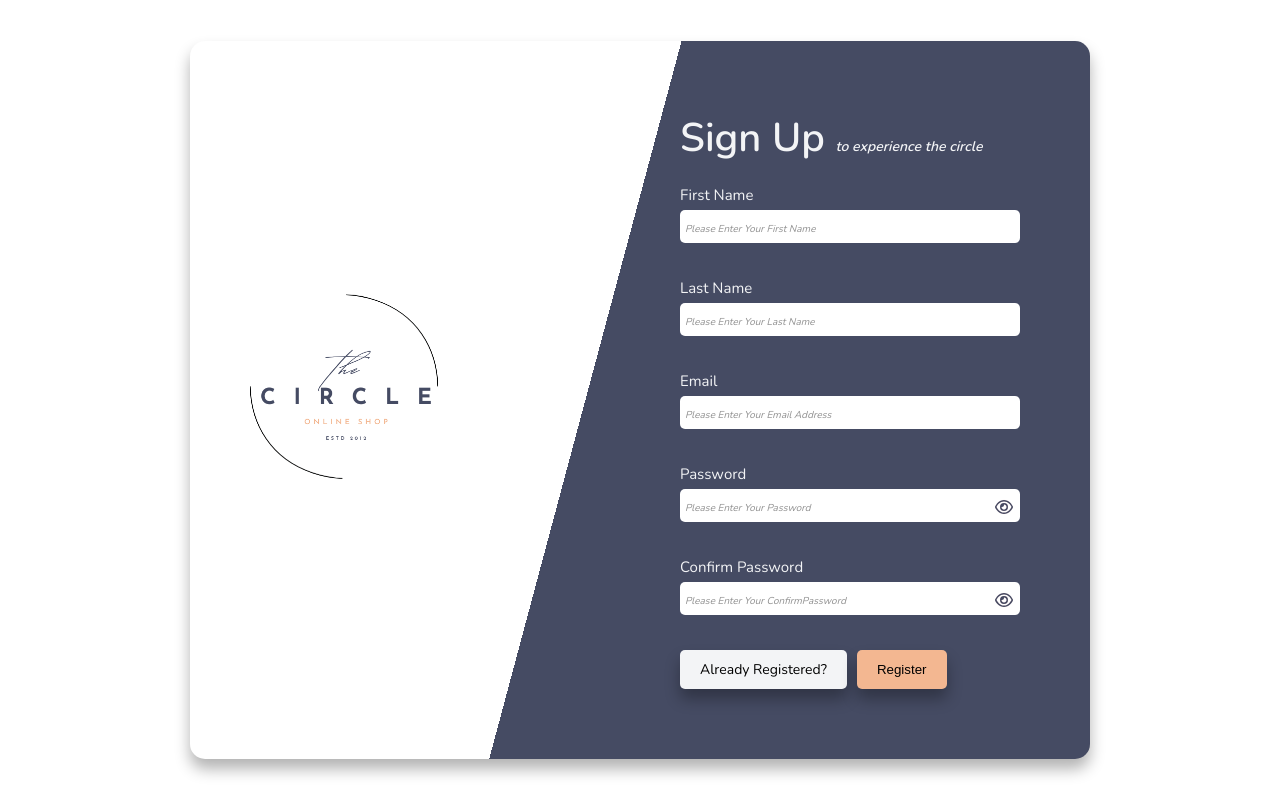
it: Sign Up Tests › when user click for Login page button
Click the link "Already Registered?" at (763, 670), box [680,650,847,689]
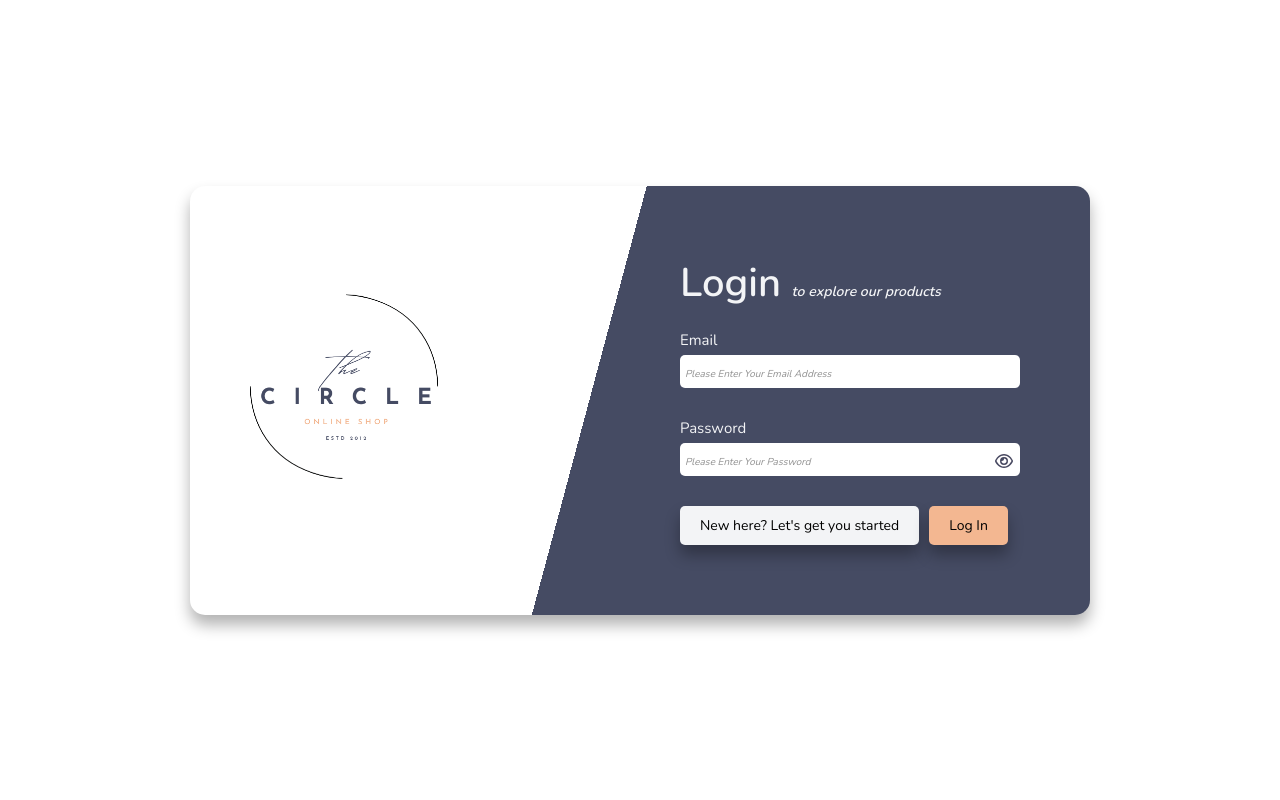
Check: the heading "Login to explore our products" is shown, box [680,256,941,310]
